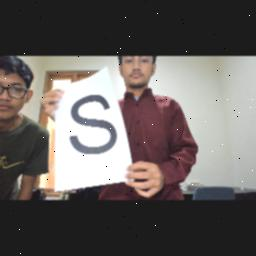s: (68, 92, 118, 156)
